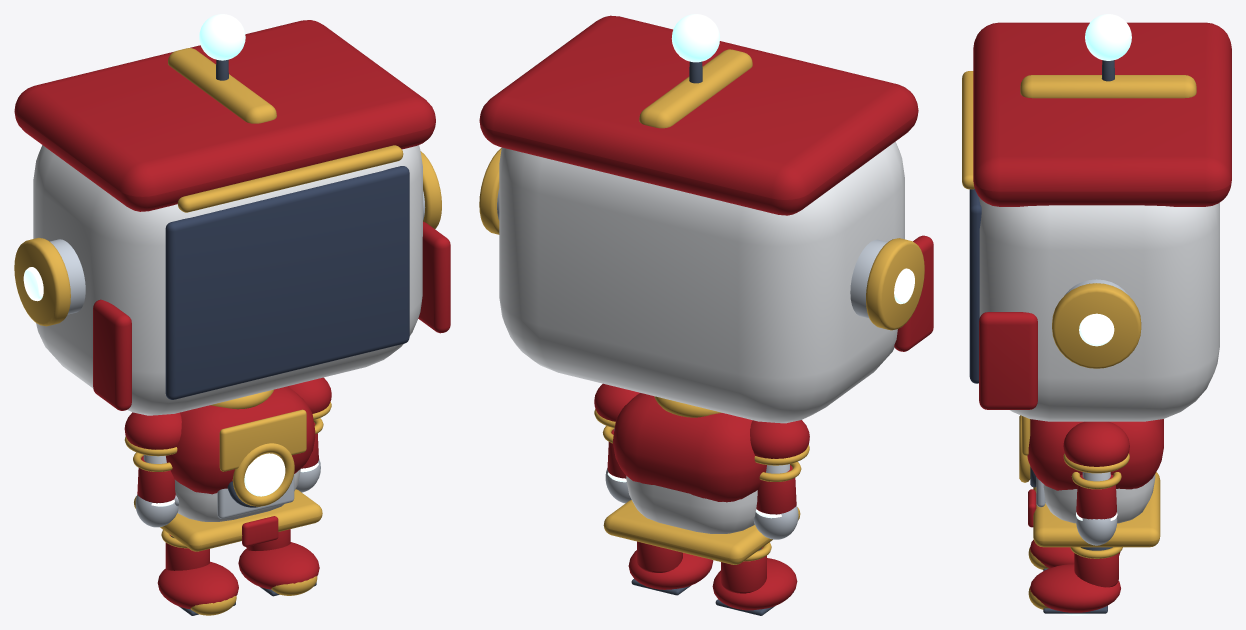
Rendered from pipo.glb.
3 views of the same model, side by side, from view 1: azimuth 30°, elevation 25°; view 2: azimuth 150°, elevation 25°; view 3: azimuth 270°, elevation 25° (orthographic). The views are drawn at different scales.
Visible parts, largest first — view 1: MK1_Helm, Visor, Skull, MK1_Chest, MK1_Brow, MK1_Cheek.L, MK1_Belt, MK1_EarCap.L, MK1_ChestPlate, MK1_Crest, MK1_Cheek.R, MK1_Boot.R (+14 smaller); view 2: Skull, MK1_Helm, MK1_Chest, MK1_Belt, Torso, MK1_EarCap.L, MK1_Crest, MK1_Boot.L, MK1_Cheek.L, MK1_Pauldron.L, Antenna_Bulb, MK1_Boot.R (+8 smaller); view 3: MK1_Helm, Skull, MK1_Cheek.R, MK1_EarCap.R, MK1_Chest, MK1_Crest, MK1_Belt, MK1_Boot.R, MK1_Pauldron.R, Visor, Torso, Antenna_Bulb (+10 smaller).
Part boxes in pixels (x1,y1,x2,y2): MK1_Helm: (14,20,435,211); Visor: (165,166,409,399); Skull: (33,145,422,415); MK1_Chest: (166,386,315,494); MK1_Brow: (177,145,403,212); MK1_Cheek.L: (93,299,131,410); MK1_Belt: (134,489,322,551); MK1_EarCap.L: (14,237,70,326); MK1_ChestPlate: (219,409,306,471); MK1_Crest: (168,48,276,123); MK1_Cheek.R: (418,221,450,333); MK1_Boot.R: (238,542,319,589); Skull: (499,141,904,423); MK1_Helm: (479,15,918,215); MK1_Chest: (613,393,766,502); MK1_Belt: (603,500,800,564); Torso: (626,476,757,533); MK1_EarCap.L: (866,238,924,330); MK1_Crest: (639,49,752,128); MK1_Boot.L: (712,558,797,610); MK1_Cheek.L: (894,235,933,351); MK1_Pauldron.L: (750,420,809,458); Antenna_Bulb: (671,14,720,62); MK1_Boot.R: (628,550,713,589); MK1_Helm: (973,22,1231,206); Skull: (978,196,1219,421); MK1_Cheek.R: (979,312,1037,409); MK1_EarCap.R: (1052,283,1141,368); MK1_Chest: (1027,419,1163,490); MK1_Crest: (1020,75,1196,98); MK1_Belt: (1033,472,1160,547); MK1_Boot.R: (1030,564,1120,612); MK1_Pauldron.R: (1063,421,1129,466); Visor: (969,189,981,383); Torso: (1043,474,1155,523); Antenna_Bulb: (1085,14,1131,60).
Bounding box in the file's own units: 78.2 × 107 × 45.9.
